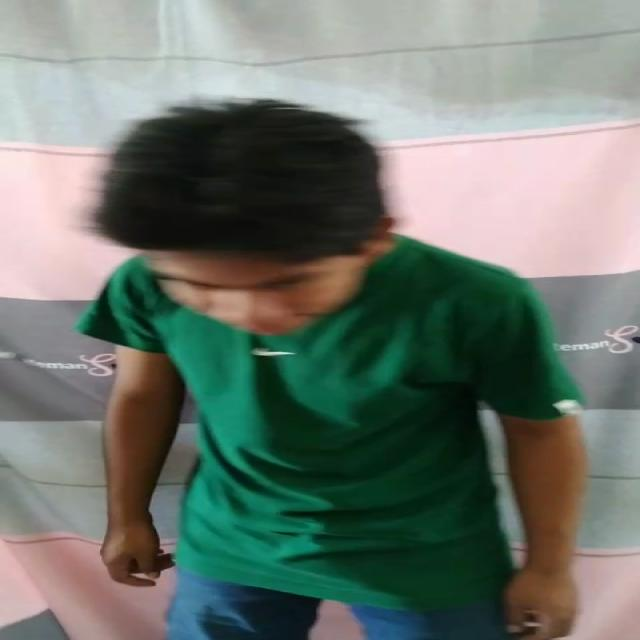9_cabeza_baja: (94, 99, 394, 332)
